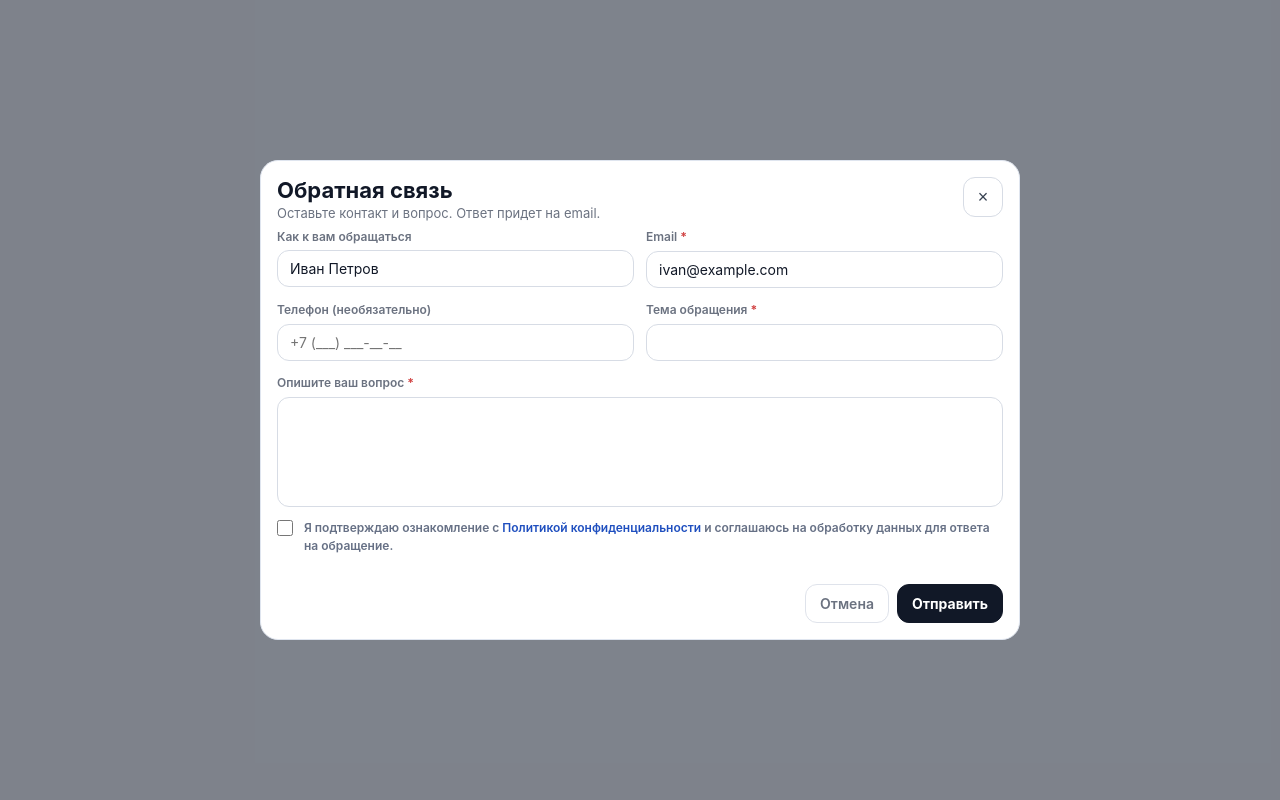
Test: Feedback modal flow › shows success state instead of alert after successful send
The width and height of the screenshot is (1280, 800).
Replace the text in the field labelled "Email *" with "ok@example.com" at [824, 270], box [646,251,1003,288]
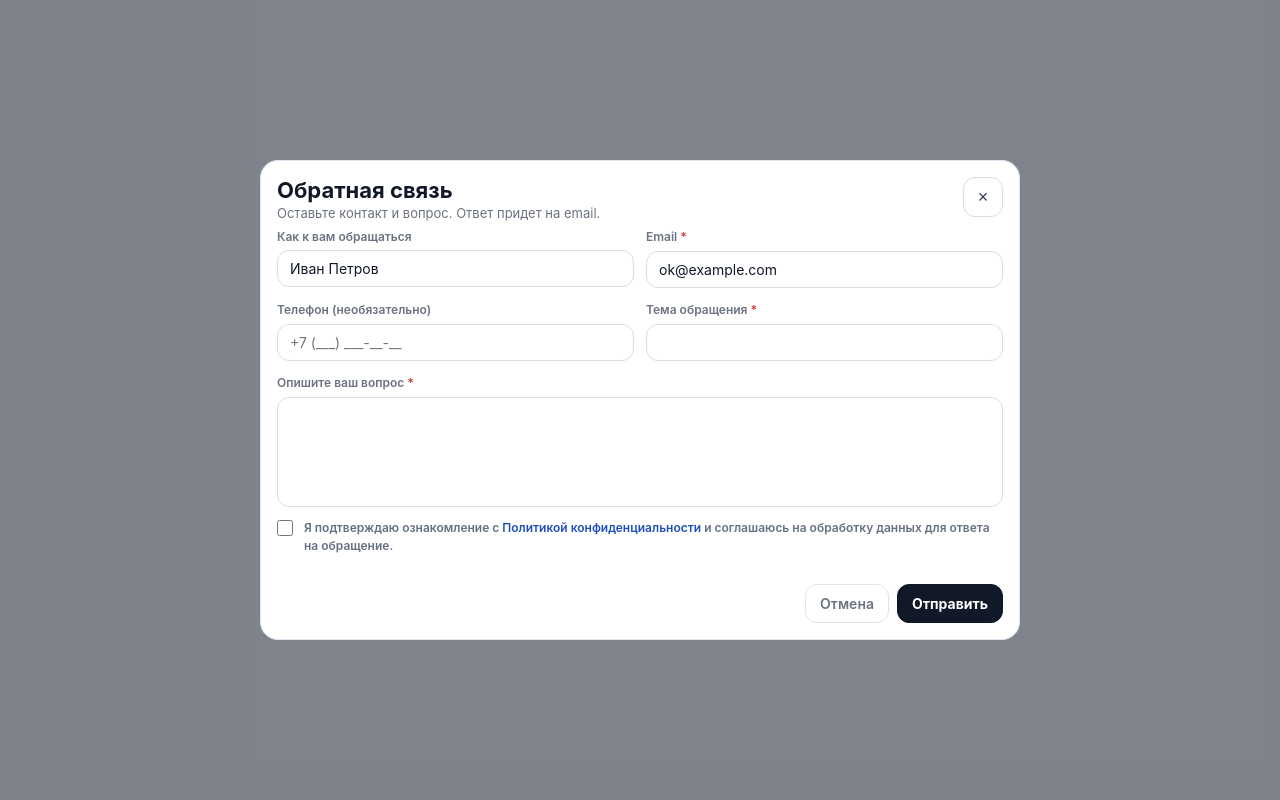
Type "Тема обращения" into the field labelled "Тема обращения *" at [824, 343], box [646,324,1003,361]
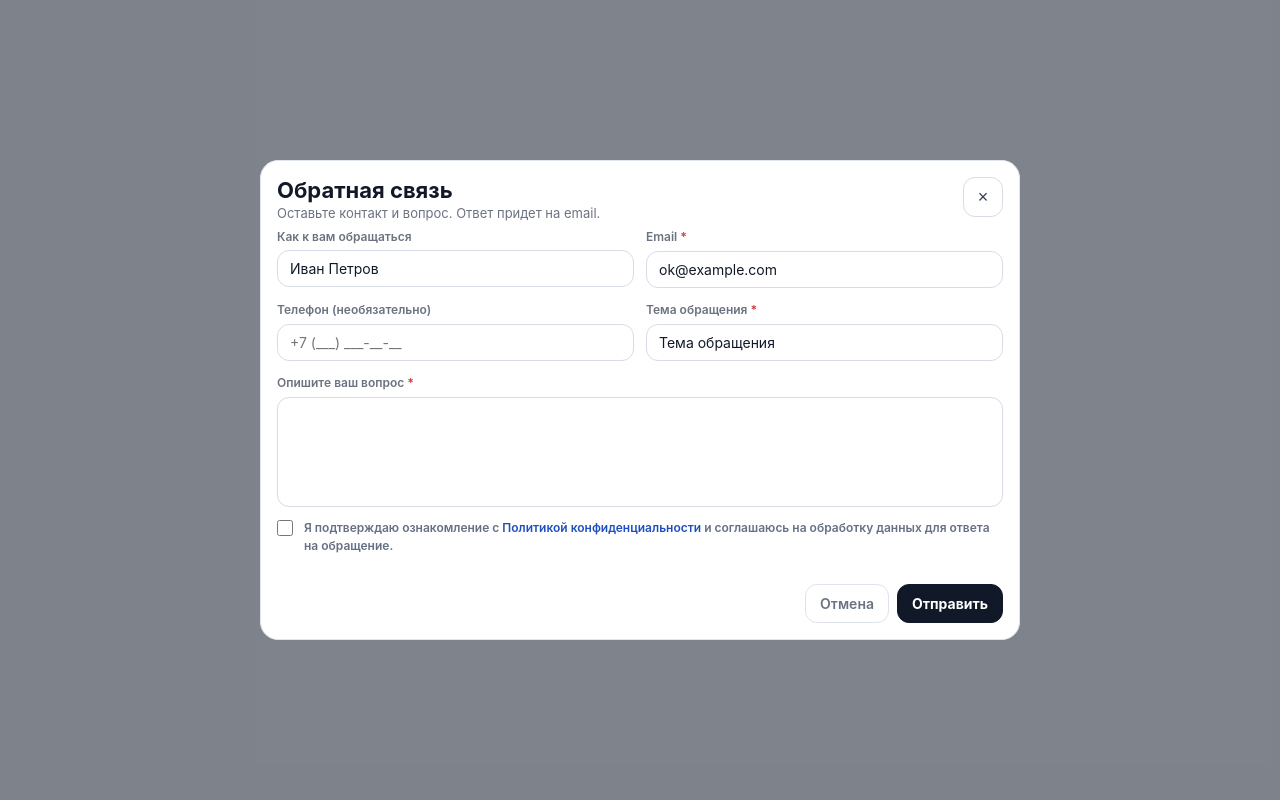
Type "Сообщение длиннее десяти символов" into the text box labelled "Опишите ваш вопрос *" at [640, 452], box [277,397,1003,507]
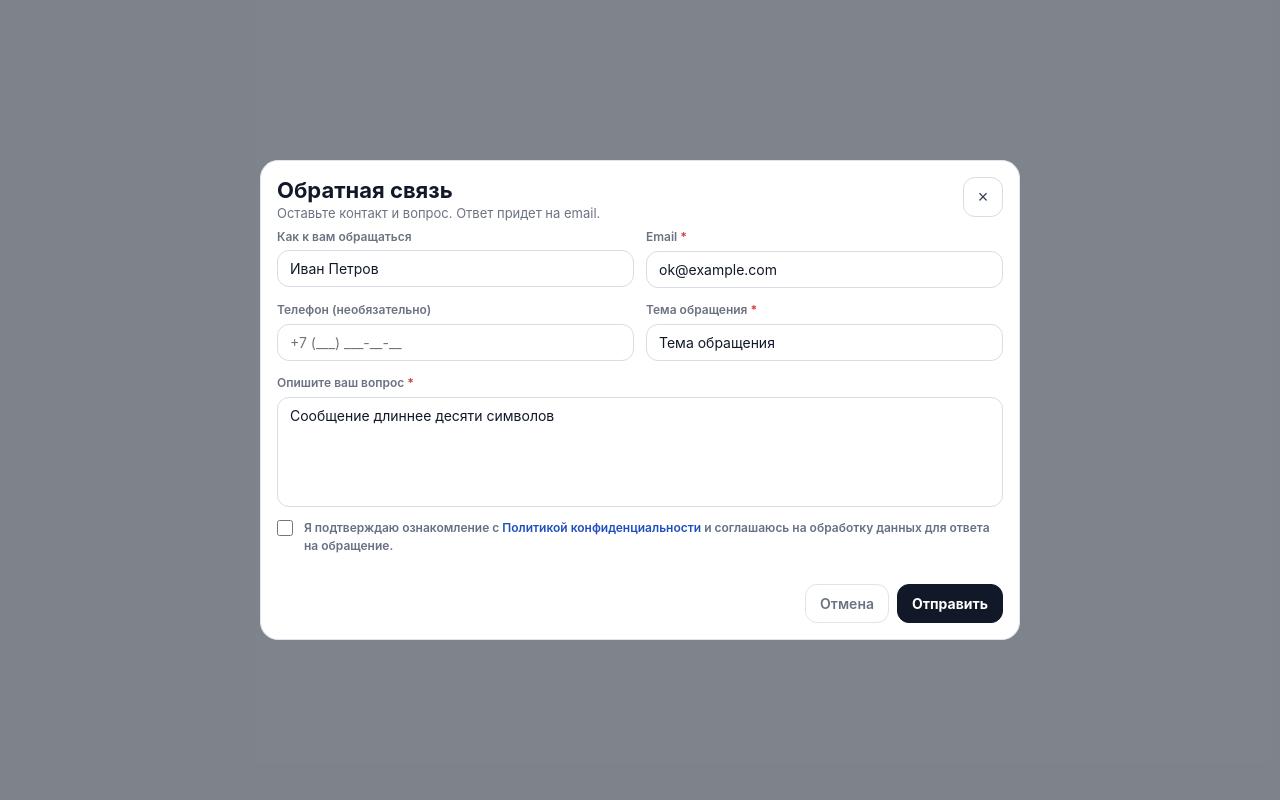
Click the checkbox at [285, 528], box [277,520,293,536]
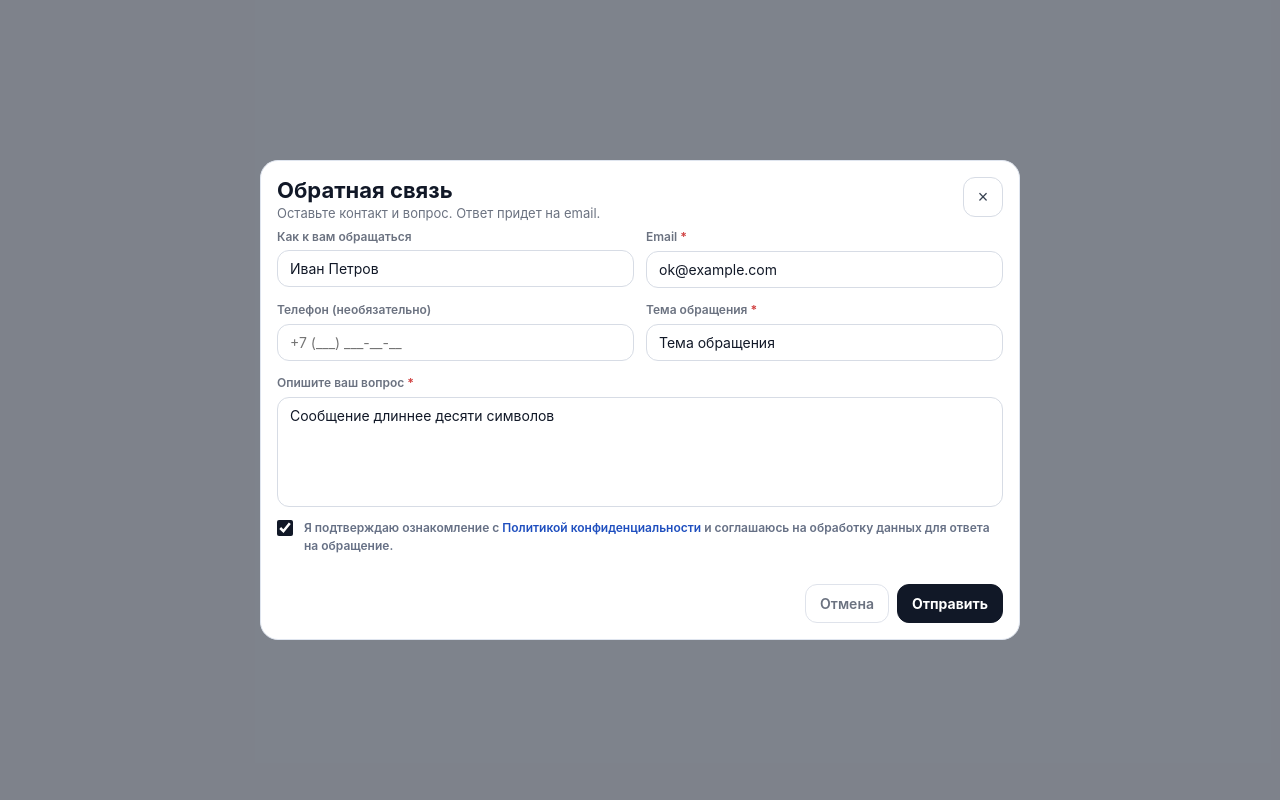
Click the button "Отправить" at [950, 603], box [897,584,1003,623]
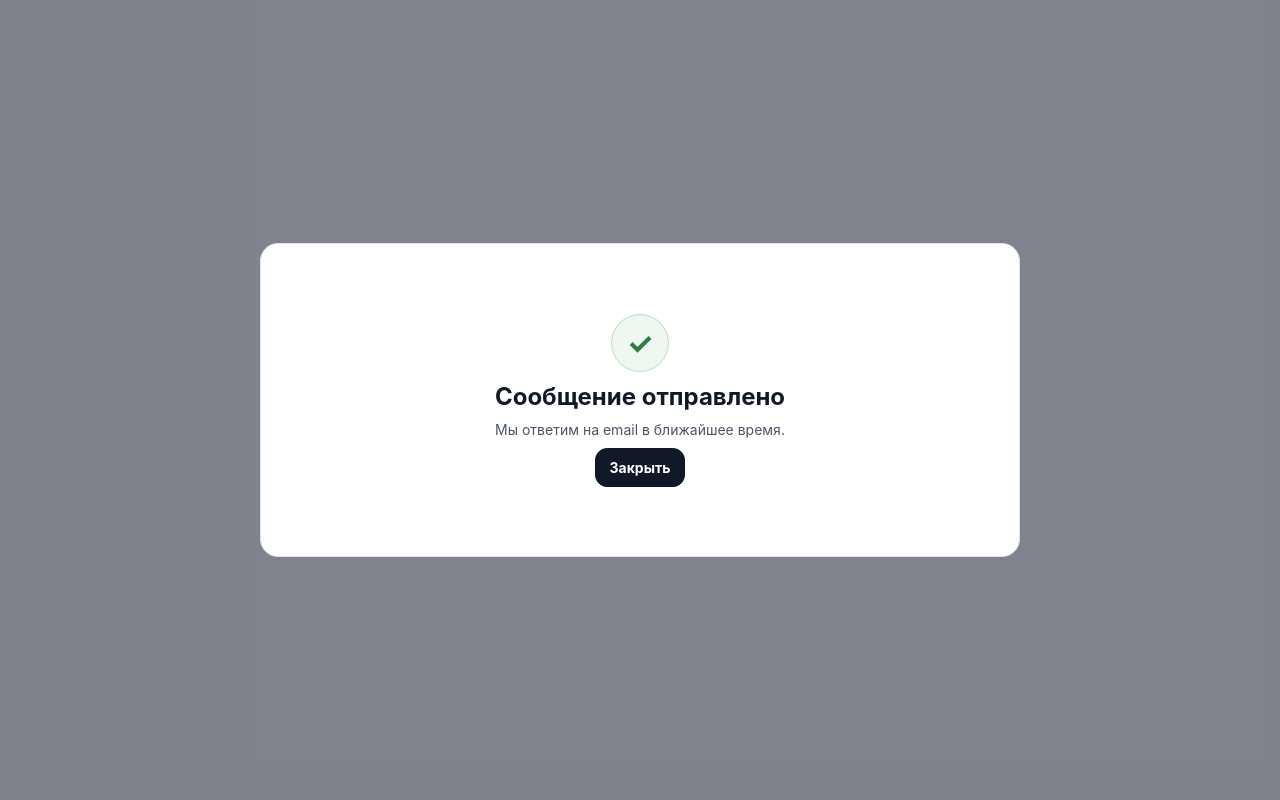
Result: the heading "Сообщение отправлено" is shown at [495,382,785,410]
